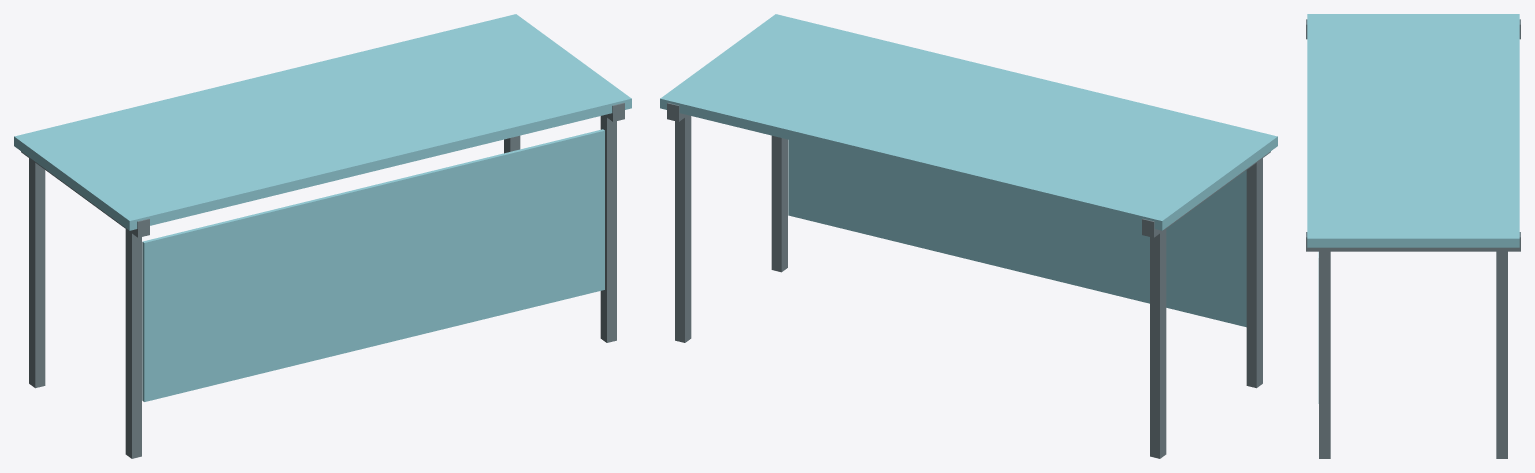
The model's file is prop_transit_shelter_ShadowProxy.glb.
3 views of the same model, side by side, from view 1: azimuth 30°, elevation 25°; view 2: azimuth 150°, elevation 25°; view 3: azimuth 270°, elevation 25° (orthographic). The views are drawn at different scales.
Parts seen in each view (by area): view 1: prop_transit_shelter__surface.003; view 2: prop_transit_shelter__surface.003; view 3: prop_transit_shelter__surface.003.
Part boxes in pixels (x1,y1,x2,y2): prop_transit_shelter__surface.003: (14, 14, 631, 458); prop_transit_shelter__surface.003: (660, 14, 1277, 458); prop_transit_shelter__surface.003: (1306, 14, 1520, 458).
Bounding box in the file's own units: 5.94 × 2.77 × 2.4.
